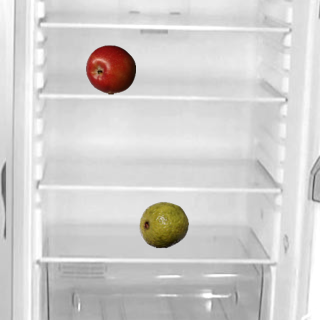Apple Braeburn: (85, 44, 135, 94)
Guava: (138, 199, 188, 249)
